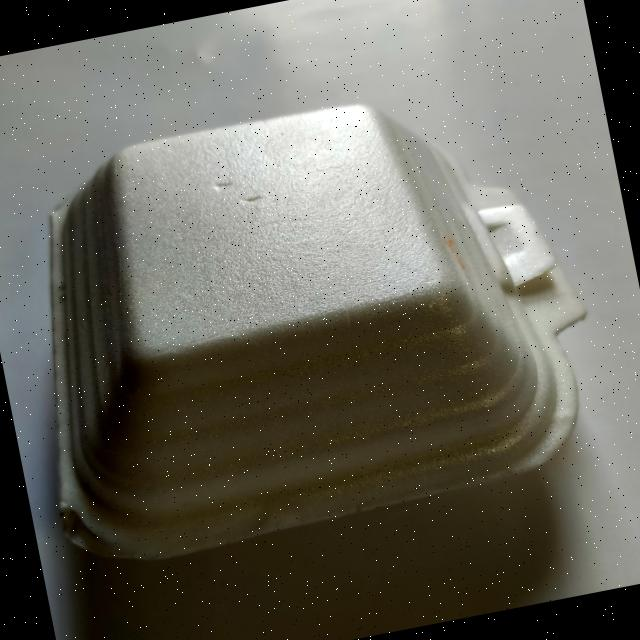styrofoam: (0, 62, 618, 579)
